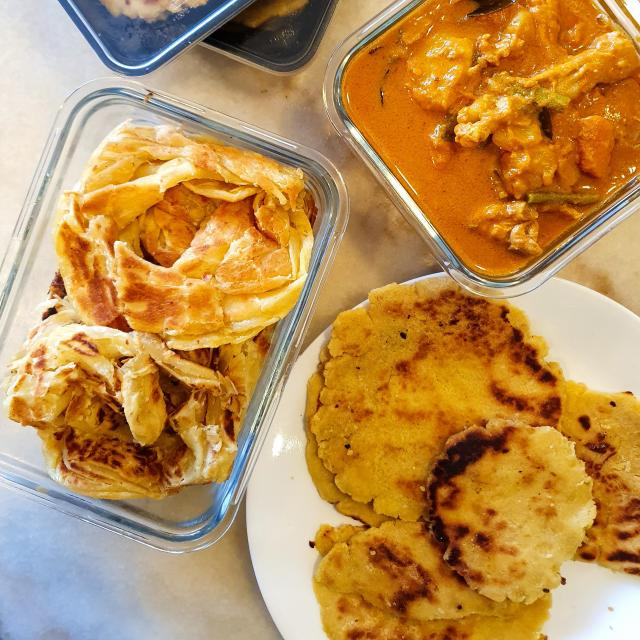Paratha: (296, 284, 540, 481), (81, 129, 302, 340), (406, 417, 599, 608), (21, 354, 219, 502)
